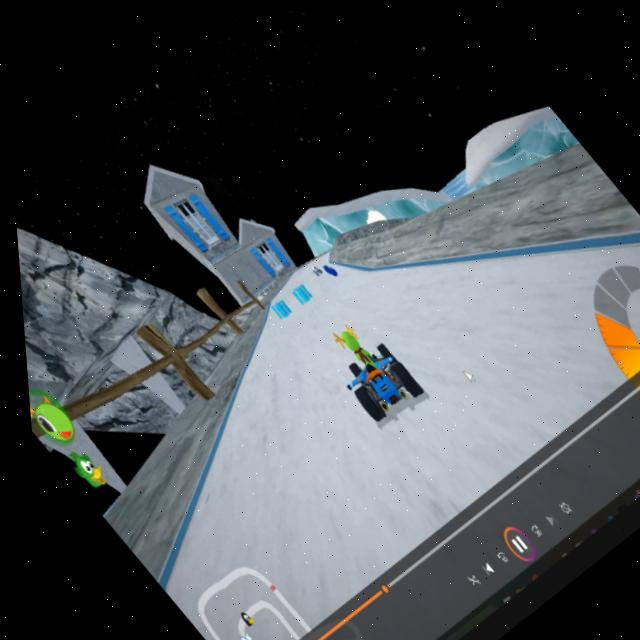bonus: (261, 292, 293, 325), (281, 276, 313, 307)
enemy_kart: (304, 257, 321, 275)
nitro: (317, 257, 338, 278)
player_kart: (309, 308, 425, 425)
